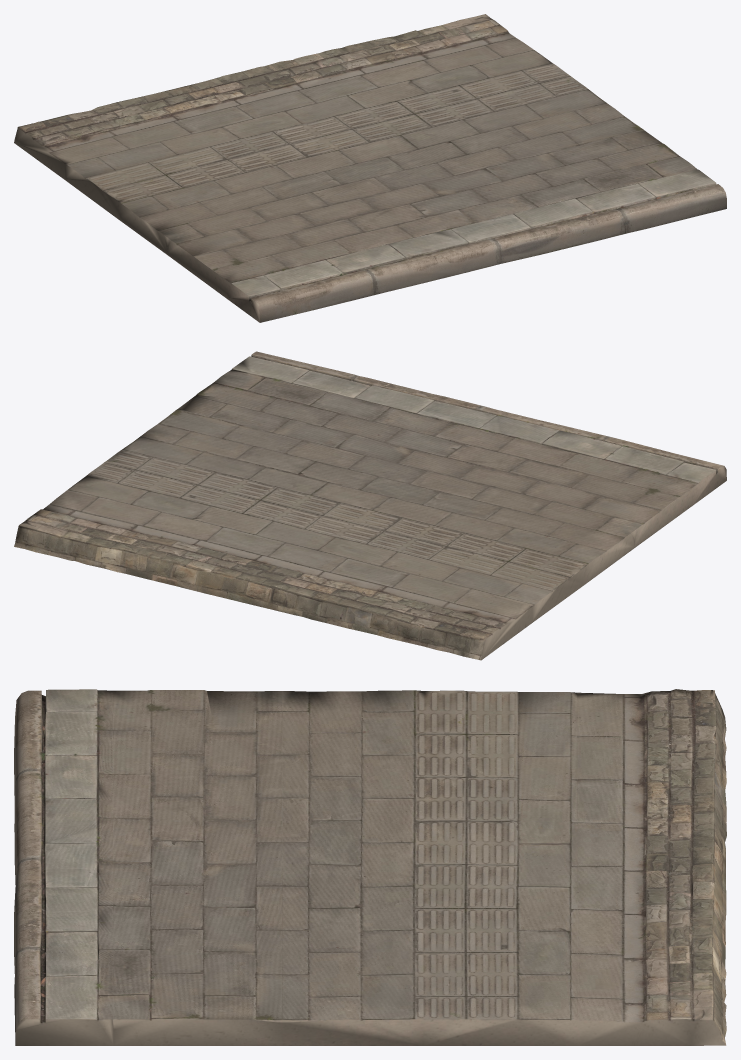
The model's file is PX_Sidewalk_02_LOD4.fbx.
3 renders of one model, top to bottom at view 1: azimuth 30°, elevation 25°; view 2: azimuth 150°, elevation 25°; view 3: azimuth 270°, elevation 25°, orthographic. The views are drawn at different scales.
Visible parts, largest first — view 1: PX_Sidewalk_02_LOD4; view 2: PX_Sidewalk_02_LOD4; view 3: PX_Sidewalk_02_LOD4.
Part boxes in pixels (box(x1,y1,x2,y2)): PX_Sidewalk_02_LOD4: box(14, 14, 726, 322); PX_Sidewalk_02_LOD4: box(14, 351, 726, 660); PX_Sidewalk_02_LOD4: box(14, 689, 726, 1045).
Bounding box in the file's own units: 272 × 11.59 × 248.
